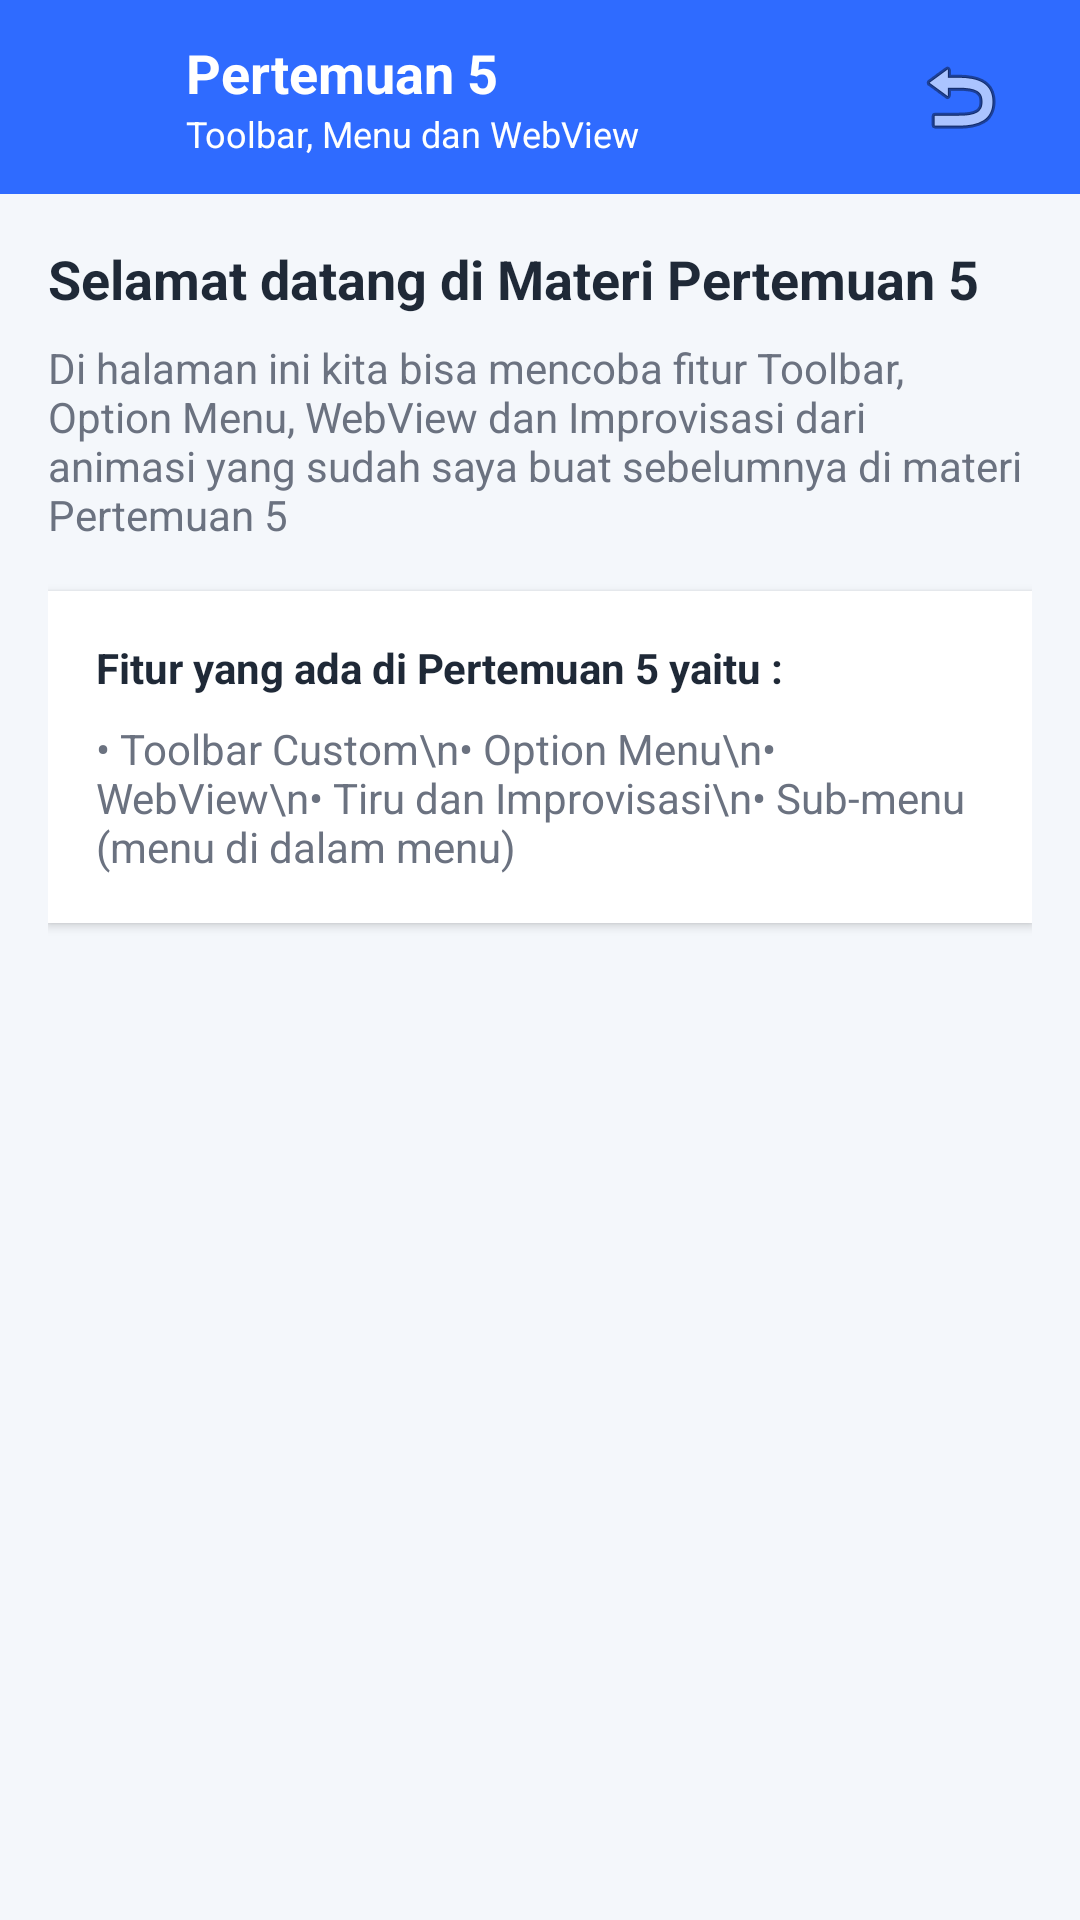

Icons on this 1080px×1920px Android screen, each with its box as (x1, y1, x2, y2):
revert: (927, 66, 996, 129)
